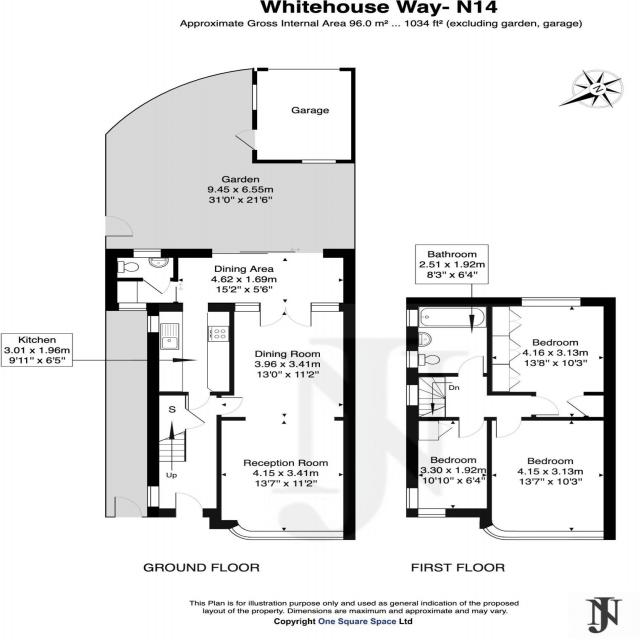DOOR: (173, 491, 205, 517), (113, 495, 143, 518), (495, 416, 524, 439), (458, 417, 485, 439), (457, 355, 484, 377), (531, 396, 560, 416), (142, 277, 171, 295), (216, 397, 243, 415), (187, 391, 211, 411)
ROOM: (216, 302, 356, 541), (479, 417, 616, 541), (486, 297, 616, 421), (146, 302, 235, 411), (406, 417, 492, 518)
WINDOW: (481, 523, 606, 541), (227, 524, 346, 540), (520, 297, 581, 307), (146, 485, 160, 508), (311, 302, 340, 312), (133, 248, 162, 258), (406, 487, 419, 509), (406, 384, 419, 406), (418, 508, 446, 518), (118, 302, 147, 311), (234, 302, 260, 312), (146, 315, 160, 333), (406, 309, 419, 327), (406, 351, 419, 368)
